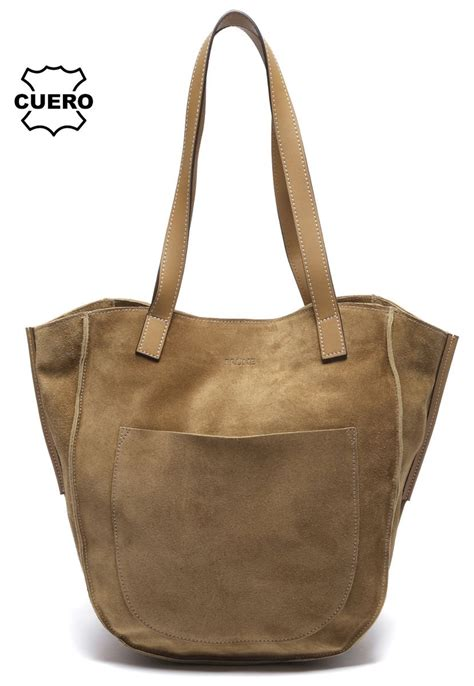gamuza: (26, 296, 458, 659)
